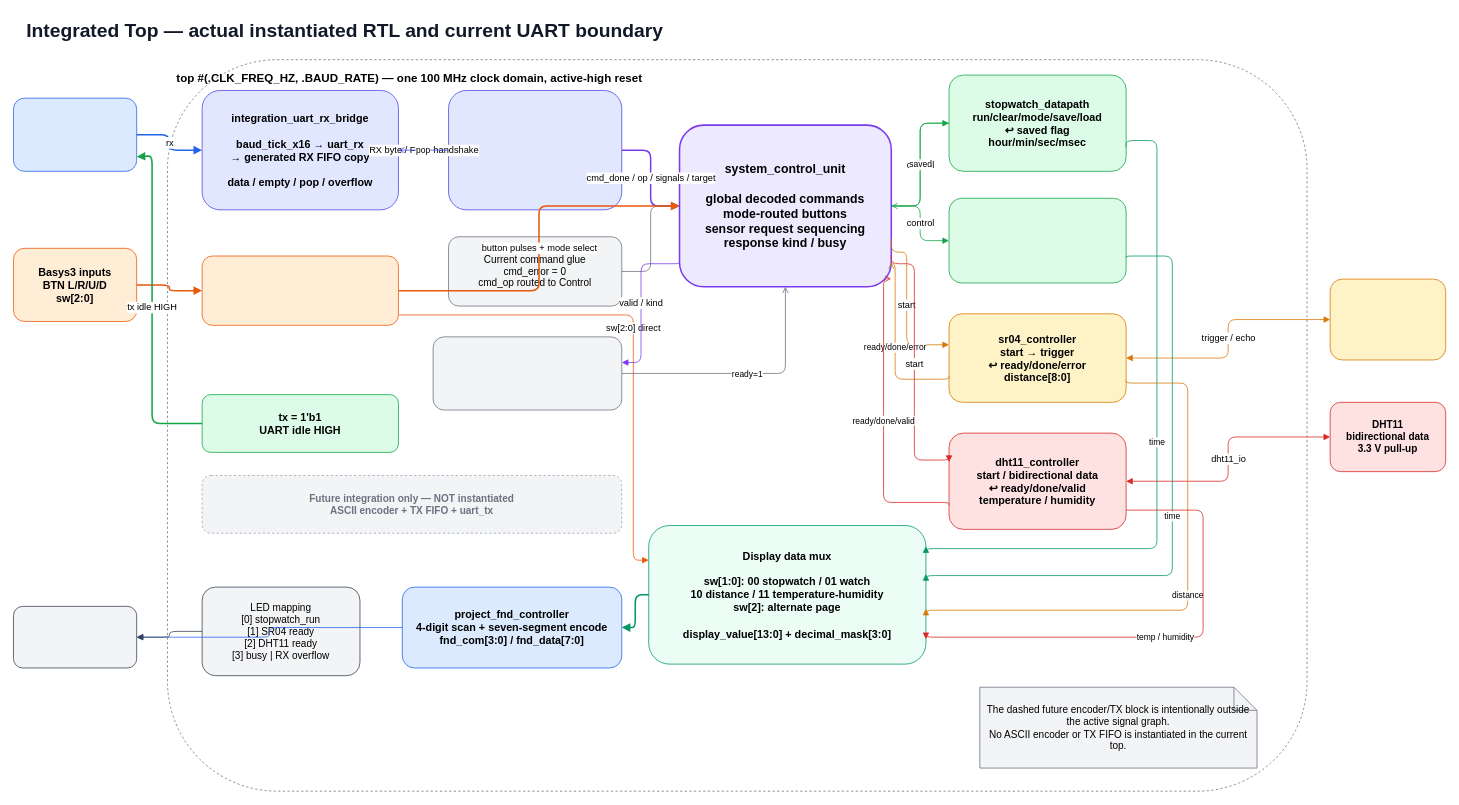
Some shapes in this 1459 by 805 pixel diagram are drawn without their labels. The centre of each missing label's shape, as x and y in pixels:
4 × btn_debouncer switches pass directly: point 299,290
ascii_decoder teammate RTL, unchanged r / s actions /get dist + LF query: point 535,150
Basys3 outputs FND + LED[3:0]: point 75,637
clock (digital watch) up/down/left/right hour/min/sec/msec: point 1037,240
Current response sink response_ready = 1 valid/kind consumed internally: point 527,373
HC-SR04 TRIG out / ECHO in ECHO requires 5 V→3.3 V shifting: point 1387,319
Host UART 9,600 bps, 8-N-1 RX commands: point 75,134
